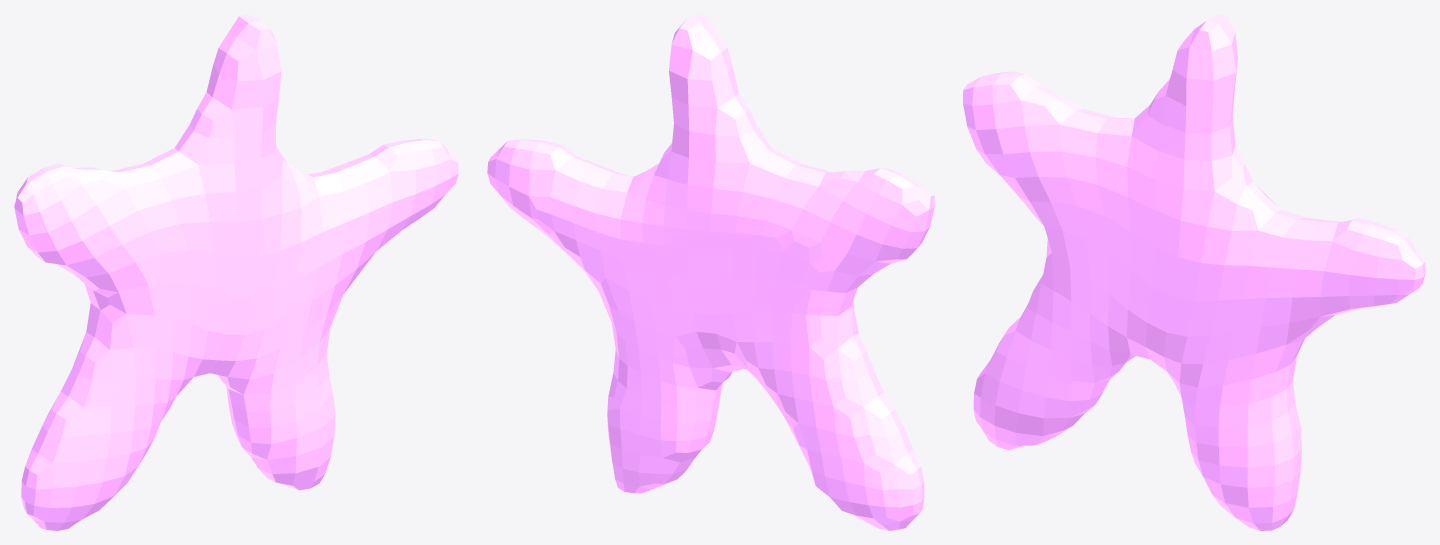
Rendered from star_fixed.glb.
The picture shows the model from 3 angles, left to right: view 1: azimuth 30°, elevation 25°; view 2: azimuth 150°, elevation 25°; view 3: azimuth 330°, elevation 25°; orthographic projection. The views are drawn at different scales.
Parts seen in each view (by area): view 1: BézierCurve; view 2: BézierCurve; view 3: BézierCurve.
Part boxes in pixels (x1=…): BézierCurve: x1=14, y1=14, x2=458, y2=530; BézierCurve: x1=487, y1=14, x2=934, y2=530; BézierCurve: x1=963, y1=14, x2=1425, y2=530.
Size of the model in its own units: 1.8 by 1.86 by 0.2946.
